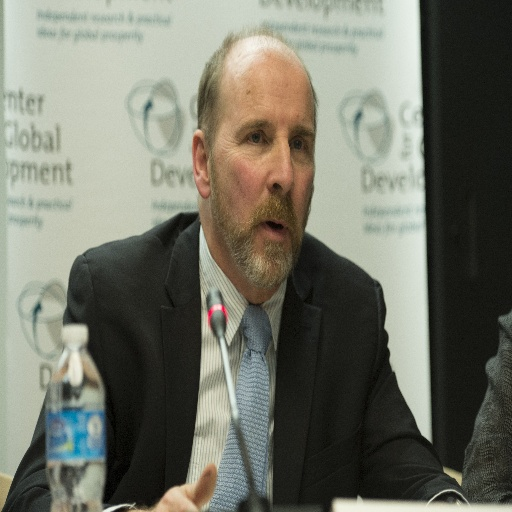hand: (152, 460, 215, 511)
